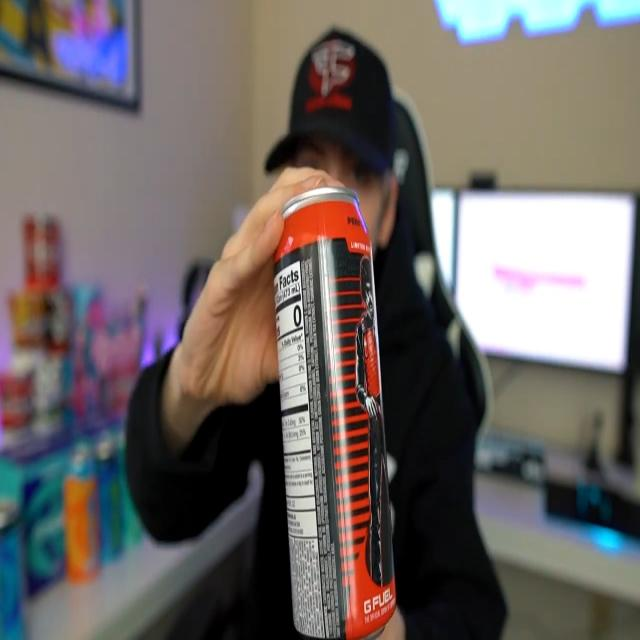can: (275, 183, 401, 640)
